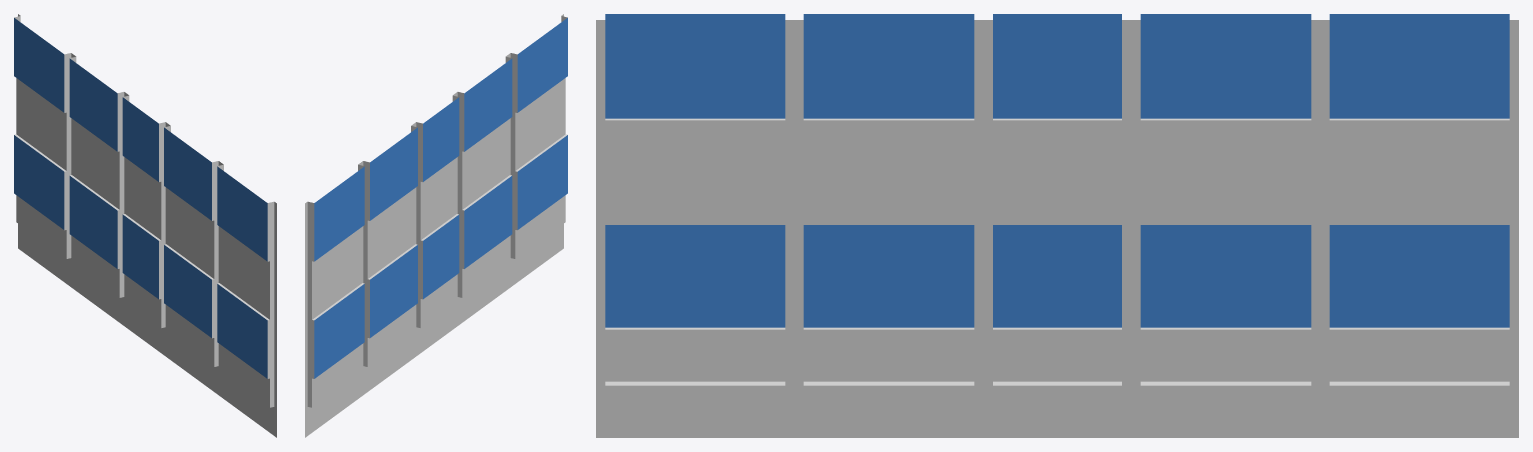
3 renders of one model, left to right at view 1: azimuth 30°, elevation 25°; view 2: azimuth 150°, elevation 25°; view 3: azimuth 270°, elevation 25°, orthographic. The views are drawn at different scales.
Visible parts, largest first — view 1: 02a_Base; view 2: 02a_Base; view 3: 02a_Base.
Boxes of the visible parts, x1,y1,x2,y2 form: 02a_Base: (14,14,276,437); 02a_Base: (305,14,567,437); 02a_Base: (596,14,1518,437).
Bounding box in the file's own units: 0.75 × 25 × 50.
